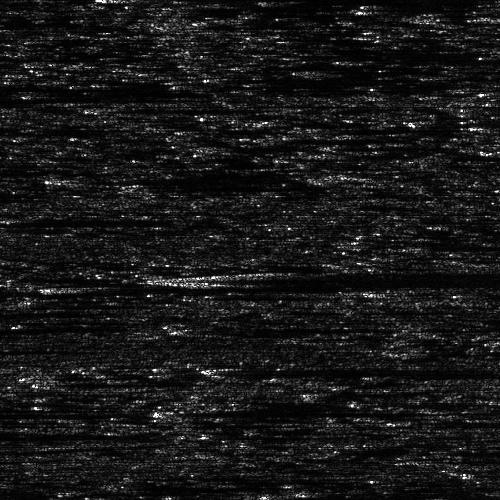object: (128, 363, 295, 376), (74, 180, 209, 193), (142, 400, 195, 419), (68, 0, 225, 5), (35, 174, 118, 183), (125, 273, 178, 282), (468, 13, 500, 22), (402, 243, 433, 248), (174, 327, 205, 330)
shadow: (169, 400, 357, 419), (212, 363, 453, 376), (152, 273, 500, 282), (142, 180, 309, 193), (77, 174, 241, 183), (0, 427, 111, 440), (147, 0, 433, 5), (0, 407, 92, 420), (0, 219, 134, 226), (190, 327, 362, 330), (418, 243, 500, 248), (0, 348, 73, 353)
